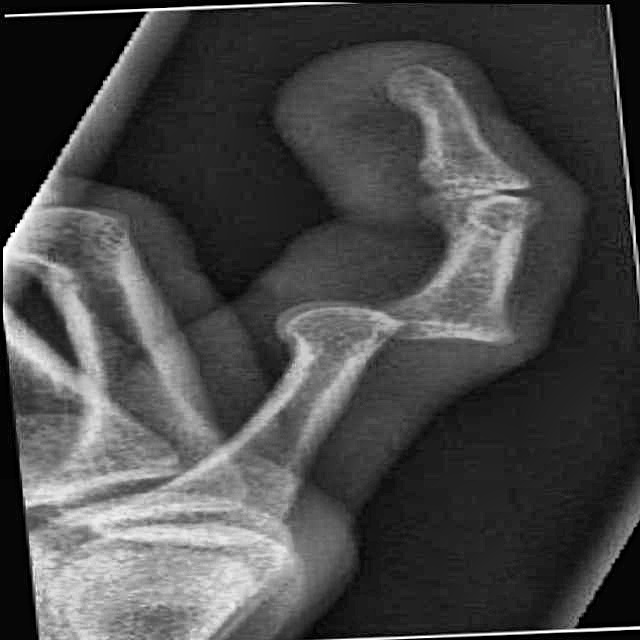Transverse: (258, 273, 570, 386)
